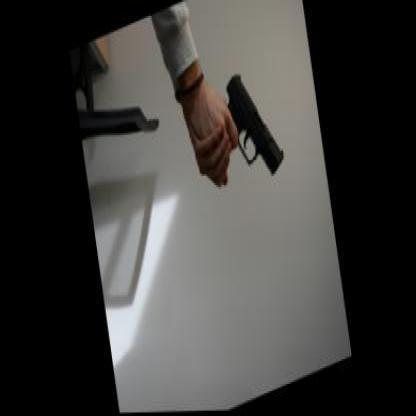pistol: (218, 56, 286, 193)
